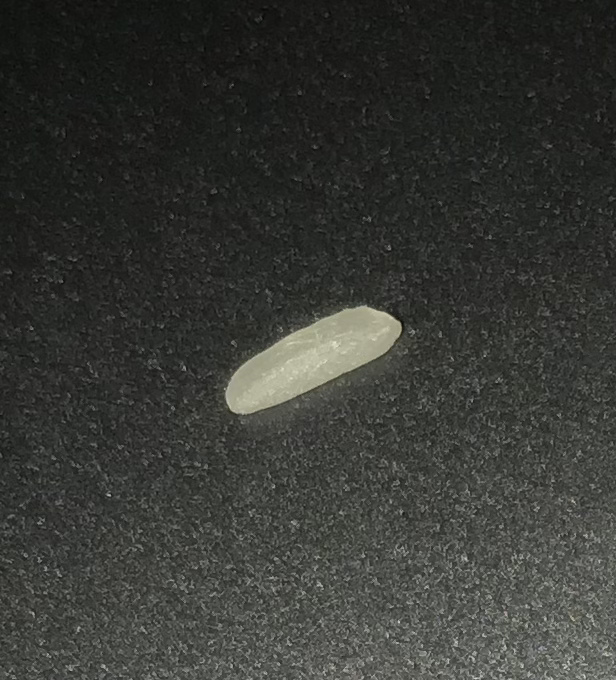Gao Tam Thom: (212, 287, 406, 423)
